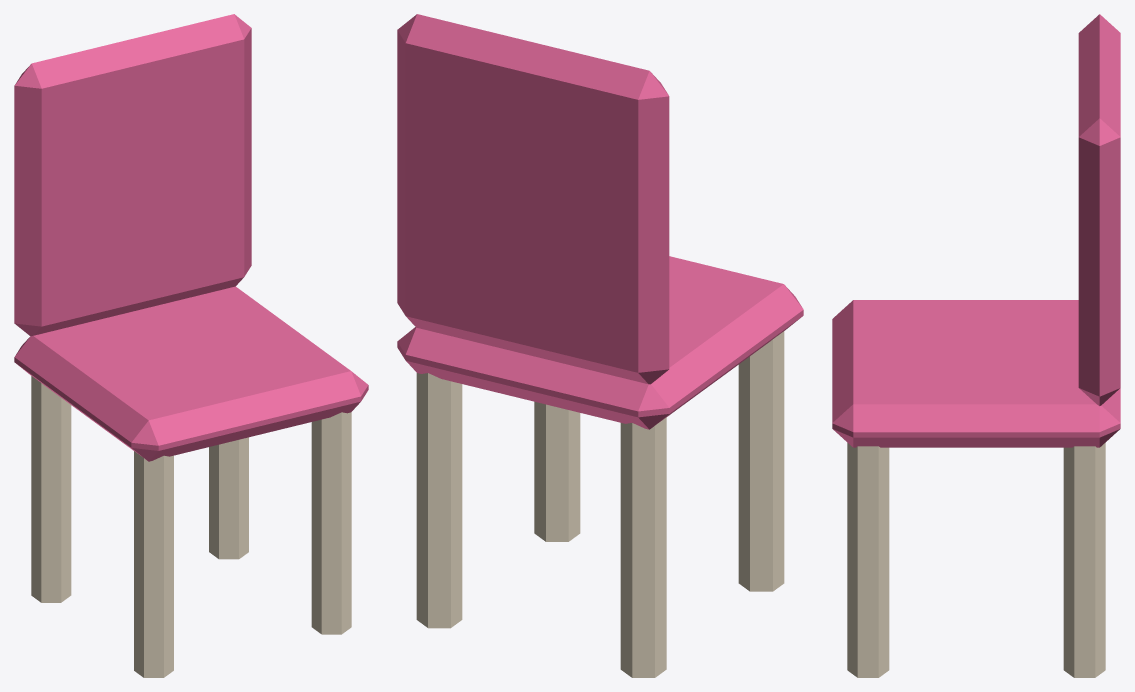
The picture shows the model from 3 angles, left to right: view 1: azimuth 30°, elevation 25°; view 2: azimuth 150°, elevation 25°; view 3: azimuth 270°, elevation 25°; orthographic projection. The views are drawn at different scales.
Visible parts, largest first — view 1: Backrest, Seat, Leg.002, Leg, Leg.001, Leg.003; view 2: Backrest, Seat, Leg.001, Leg.003, Leg, Leg.002; view 3: Seat, Backrest, Leg.002, Leg.003.
Boxes of the visible parts, x1,y1,x2,y2 form: Backrest: (14,14,251,336); Seat: (14,286,368,461); Leg.002: (311,412,351,634); Leg: (134,451,173,677); Leg.001: (31,376,71,602); Leg.003: (209,437,248,559); Backrest: (397,14,669,384); Seat: (397,256,803,429); Leg.001: (620,417,666,677); Leg.003: (416,373,462,628); Leg: (738,331,784,591); Leg.002: (534,401,580,541); Seat: (832,300,1120,447); Backrest: (1078,14,1120,405); Leg.002: (847,443,889,677); Leg.003: (1063,443,1105,677).
Bounding box in the file's own units: 48 × 102 × 48.
